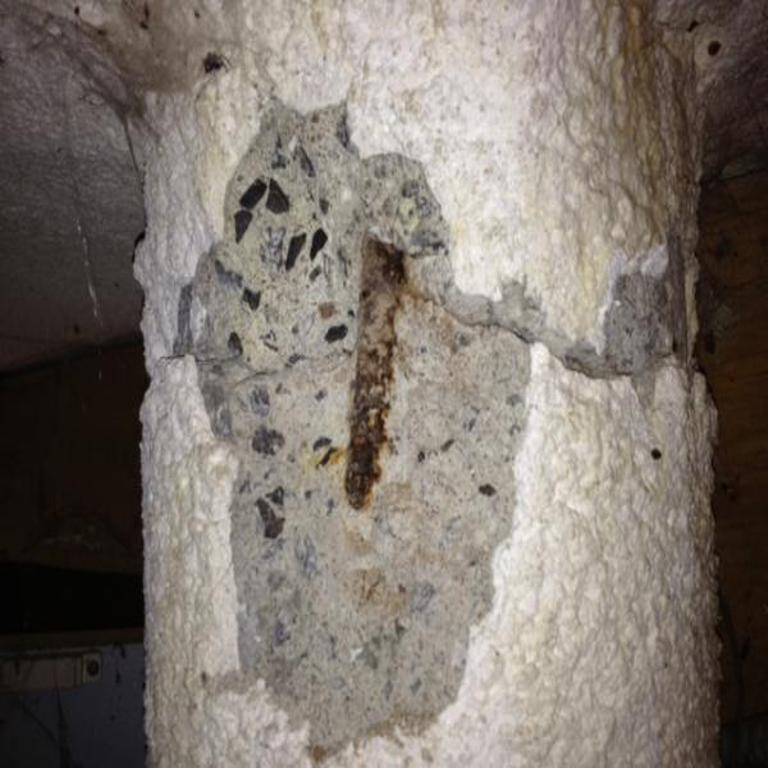spalling: (180, 104, 674, 745)
